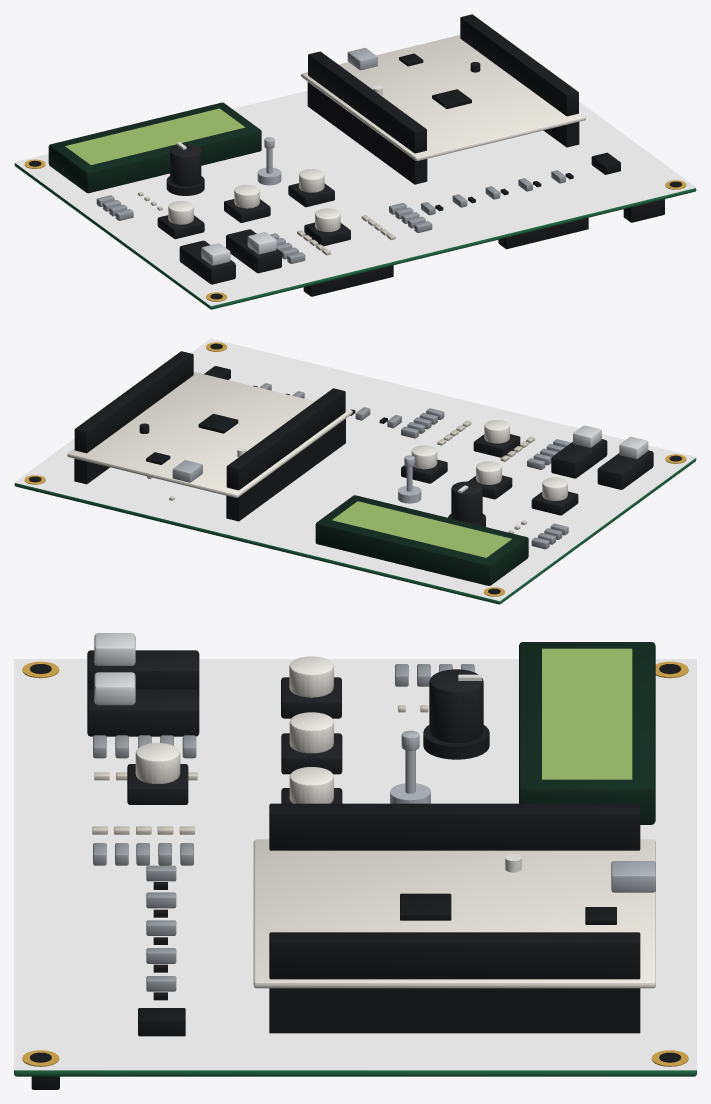
File: vcu.glb
3 renders of one model, top to bottom at view 1: azimuth 30°, elevation 25°; view 2: azimuth 150°, elevation 25°; view 3: azimuth 270°, elevation 25°, orthographic. The views are drawn at different scales.
Visible parts, largest first — view 1: VcuSilk, VcuNucleoBoard, VcuLcdFrame, VcuLcdScreen, VcuNucleoHeaderR, VcuNucleoHeaderL, VcuNucleoPinsL, VcuBoard, VcuSwitchLVHousing, VcuSwitchHVHousing, VcuGearKnobBody, VcuConn0 (+16 smaller); view 2: VcuSilk, VcuNucleoBoard, VcuLcdFrame, VcuLcdScreen, VcuNucleoHeaderL, VcuNucleoHeaderR, VcuNucleoPinsL, VcuBoard, VcuSwitchHVHousing, VcuSwitchLVHousing, VcuGearKnobBody, VcuBtnLeftBase (+12 smaller); view 3: VcuSilk, VcuNucleoBoard, VcuNucleoHeaderR, VcuNucleoHeaderL, VcuNucleoPinsR, VcuLcdScreen, VcuLcdFrame, VcuBoard, VcuSwitchHVHousing, VcuGearKnobBody, VcuSwitchLVHousing, VcuBtnPrechargeBase (+13 smaller).
Boxes of the visible parts, x1,y1,x2,y2 form: VcuSilk: [14, 90, 696, 306]; VcuNucleoBoard: [301, 35, 586, 161]; VcuLcdFrame: [48, 102, 261, 193]; VcuLcdScreen: [65, 108, 245, 164]; VcuNucleoHeaderR: [460, 14, 578, 116]; VcuNucleoHeaderL: [308, 51, 426, 153]; VcuNucleoPinsL: [307, 82, 427, 184]; VcuBoard: [14, 163, 696, 309]; VcuSwitchLVHousing: [179, 240, 235, 284]; VcuSwitchHVHousing: [226, 229, 281, 273]; VcuGearKnobBody: [170, 144, 201, 186]; VcuConn0: [303, 265, 393, 296]; VcuSilk: [14, 338, 696, 600]; VcuNucleoBoard: [67, 372, 352, 497]; VcuLcdFrame: [315, 495, 528, 585]; VcuLcdScreen: [332, 501, 511, 557]; VcuNucleoHeaderL: [226, 388, 345, 490]; VcuNucleoHeaderR: [74, 351, 193, 453]; VcuNucleoPinsL: [226, 419, 345, 521]; VcuBoard: [14, 458, 696, 604]; VcuSwitchHVHousing: [551, 439, 607, 478]; VcuSwitchLVHousing: [597, 450, 653, 489]; VcuGearKnobBody: [451, 481, 482, 523]; VcuBtnLeftBase: [531, 491, 578, 515]; VcuSilk: [14, 659, 696, 1070]; VcuNucleoBoard: [253, 839, 655, 988]; VcuNucleoHeaderR: [269, 932, 640, 979]; VcuNucleoHeaderL: [269, 803, 640, 850]; VcuNucleoPinsR: [269, 988, 640, 1033]; VcuLcdScreen: [542, 648, 632, 779]; VcuLcdFrame: [519, 642, 655, 824]; VcuBoard: [14, 1070, 696, 1076]; VcuSwitchHVHousing: [87, 689, 199, 736]; VcuGearKnobBody: [429, 669, 483, 742]; VcuSwitchLVHousing: [87, 650, 199, 692]; VcuBtnPrechargeBase: [127, 764, 188, 804].
Size of the model in its own units: 0.1995 by 0.0302 by 0.14.
